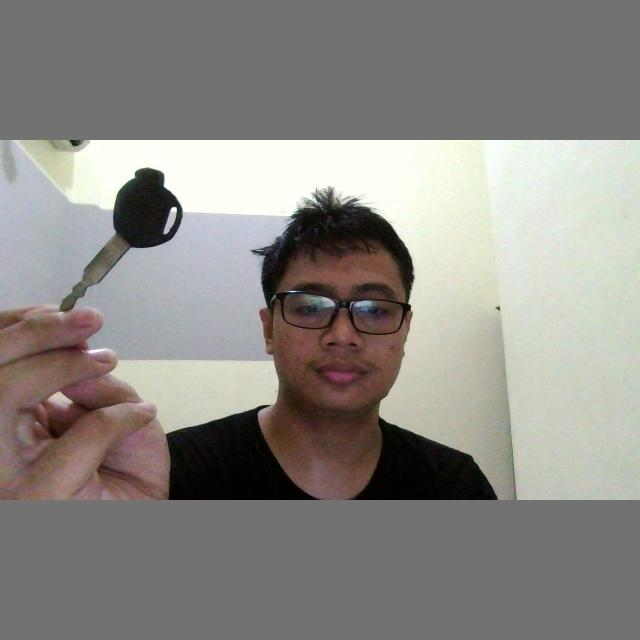Keys: (54, 158, 186, 318)
